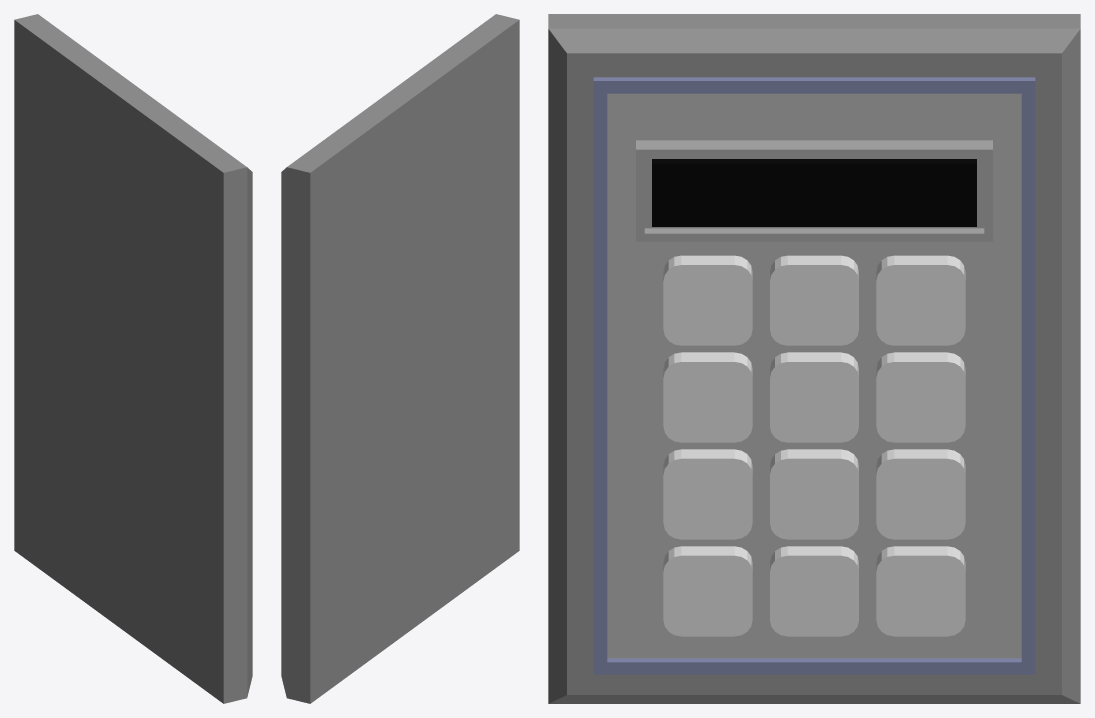
File: DoorLockPad.fbx
The picture shows the model from 3 angles, left to right: view 1: azimuth 30°, elevation 25°; view 2: azimuth 150°, elevation 25°; view 3: azimuth 270°, elevation 25°; orthographic projection. The views are drawn at different scales.
Visible parts, largest first — view 1: Cube; view 2: Cube; view 3: Cube, Screen, ButtonsLeft, ButtonsMid.001, ButtonsMid.
Boxes of the visible parts, x1,y1,x2,y2 form: Cube: [14, 14, 252, 703]; Cube: [281, 14, 519, 703]; Cube: [548, 14, 1080, 703]; Screen: [636, 140, 992, 241]; ButtonsLeft: [663, 255, 752, 636]; ButtonsMid.001: [876, 255, 965, 636]; ButtonsMid: [770, 255, 858, 636].
Size of the model in its own units: 0.1427 by 1.4 by 1.
